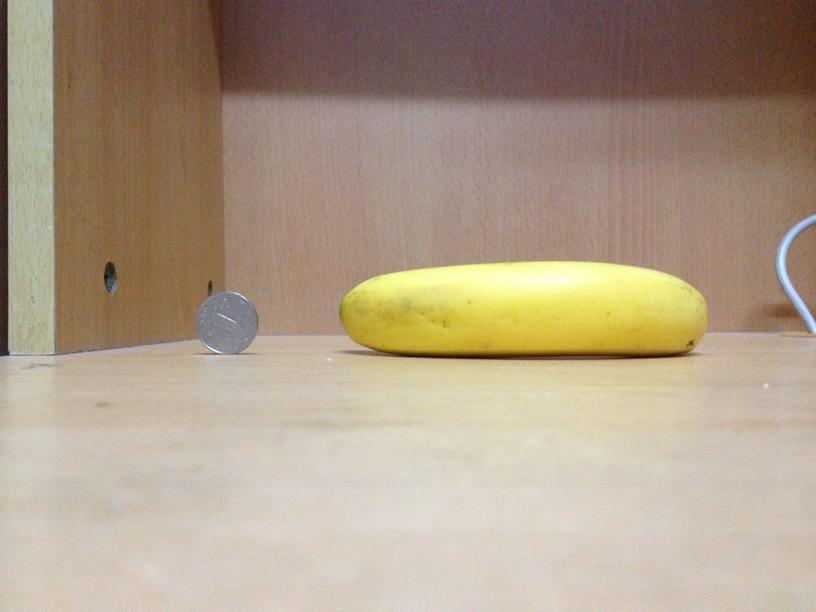banana: (339, 262, 707, 356)
coin: (192, 289, 258, 353)
